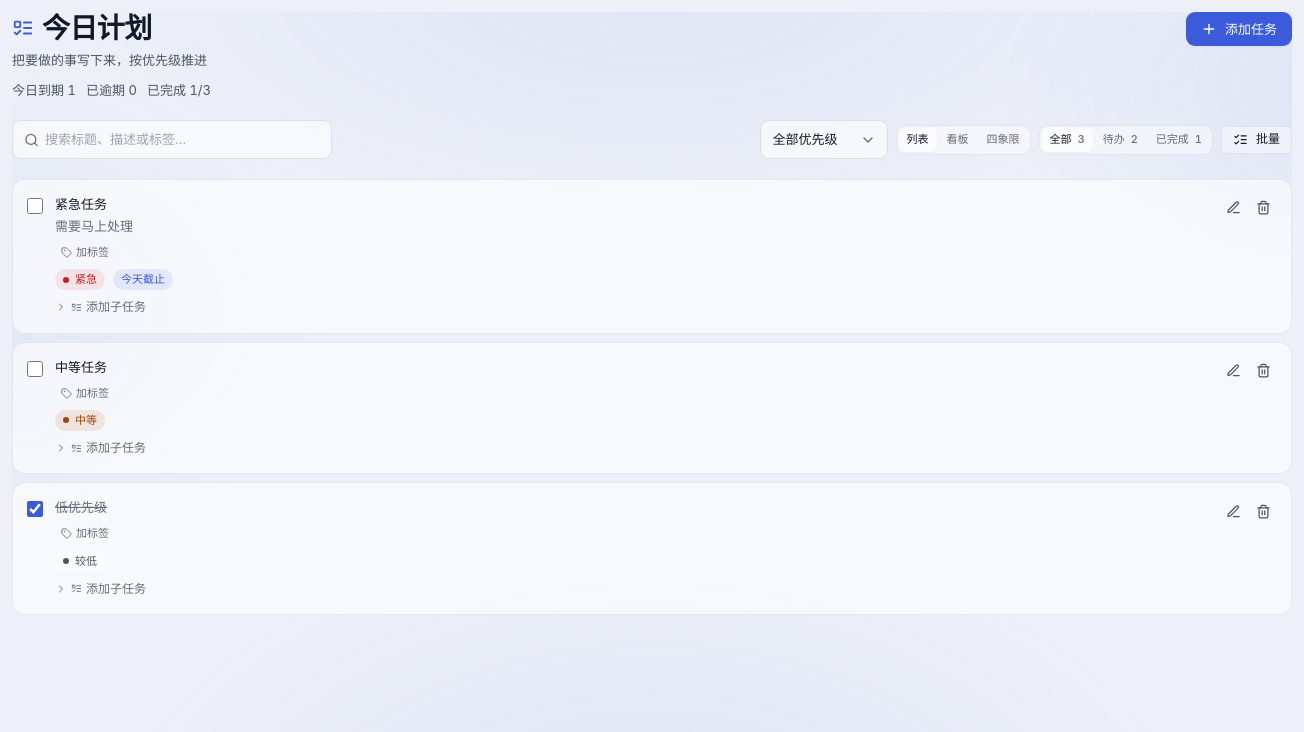
Test: TasksPage › 筛选项显示数量并可切换
The image size is (1304, 732).
Expected: the button "全部 3" is shown, 1042,128 -> 1093,152
Click the button "已完成 1" at coordinates (1179, 140), box 1148,128 -> 1210,152
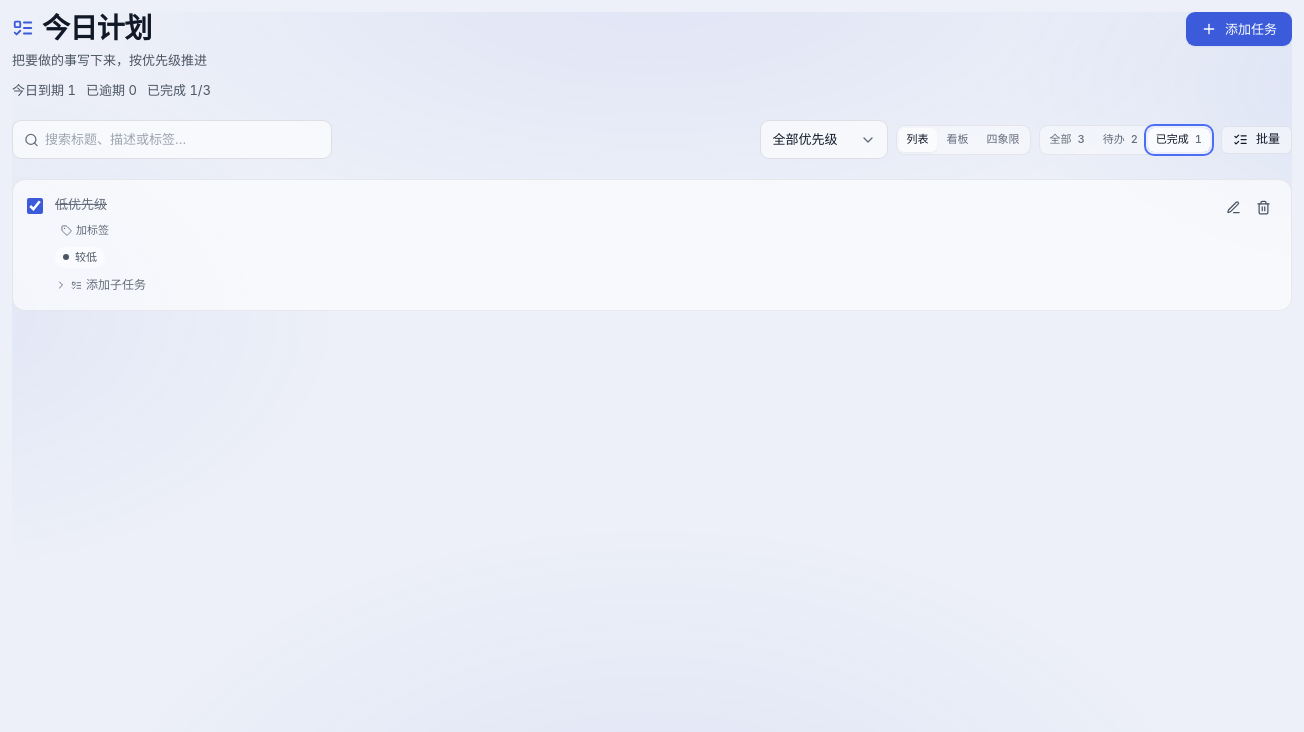
Expected: the button "低优先级" is shown, 55,194 -> 107,214
Expected: the number of checkboxes is 1, 27,198 -> 43,214
